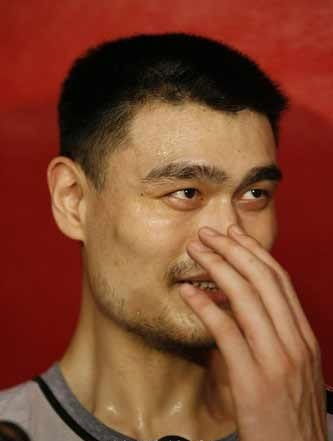face: (104, 95, 283, 349)
